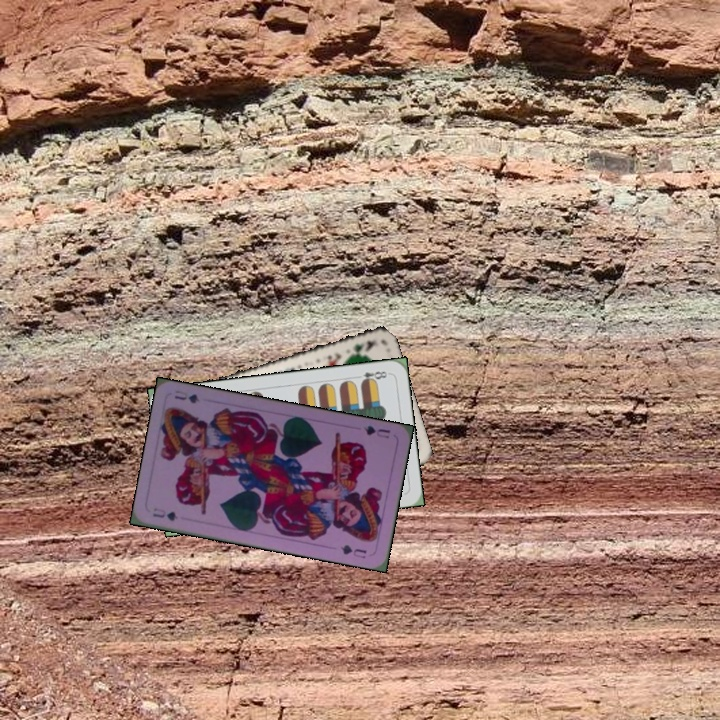E8: (351, 367, 392, 386)
GK: (343, 336, 378, 360)
GU: (149, 504, 180, 524), (360, 422, 392, 441)
